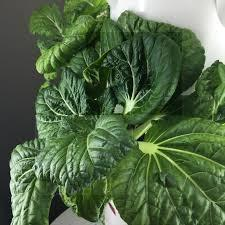Healthy-Pechay: (6, 1, 222, 223)
